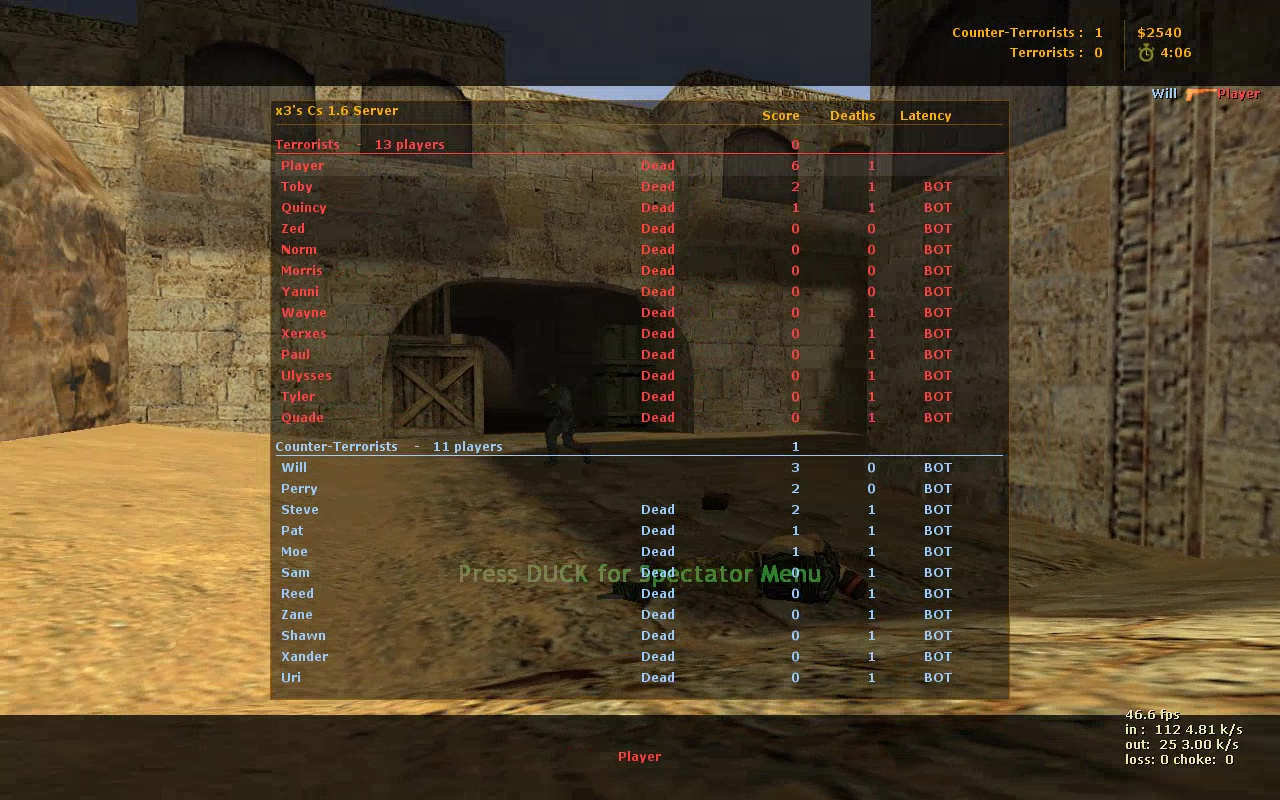ct: (536, 379, 591, 466)
dead: (610, 529, 863, 617)
